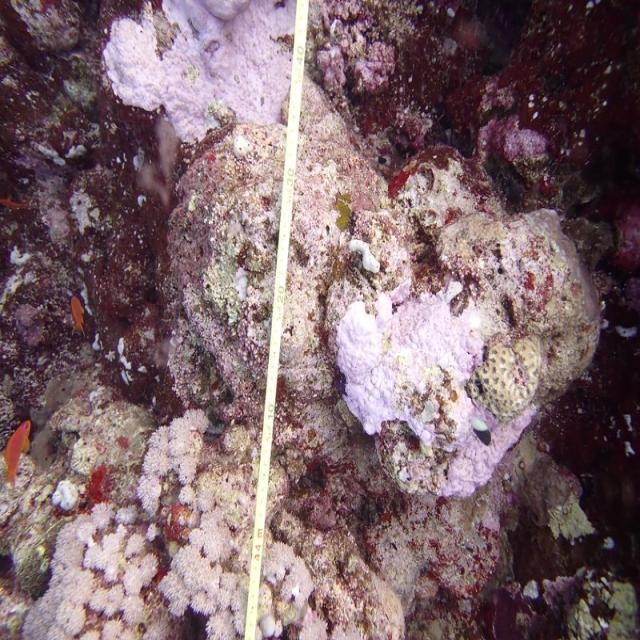Bleached Coral: (104, 0, 302, 136), (326, 294, 482, 435)
